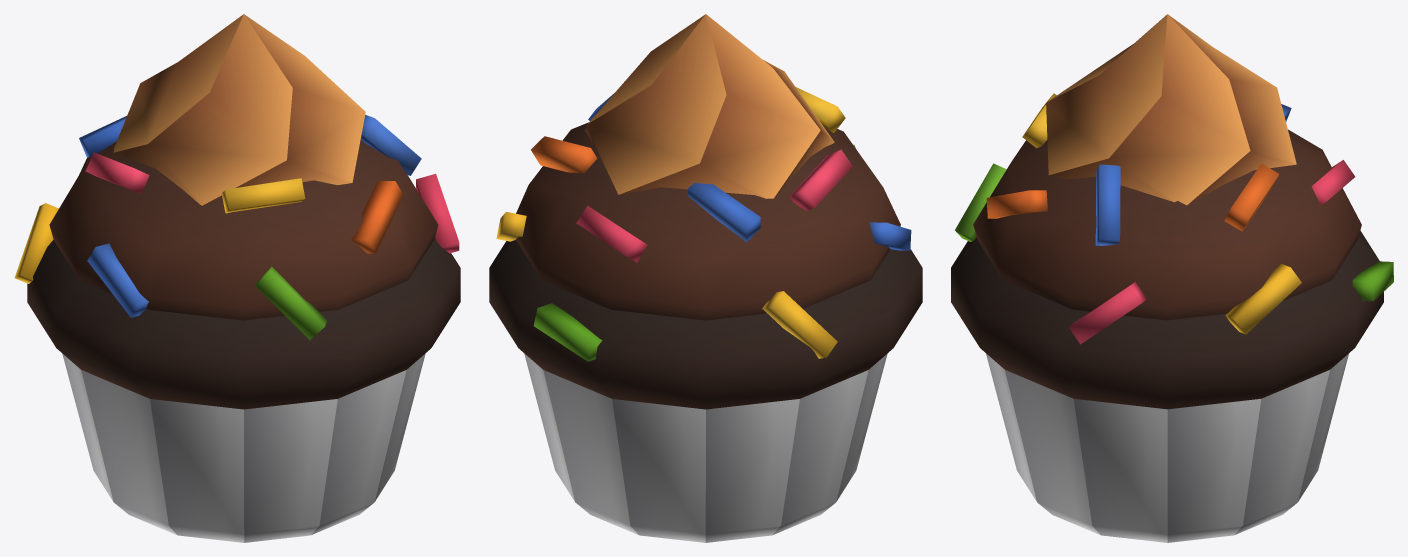
Rendered from m_Cupcake12.fbx.
3 views of the same model, side by side, from view 1: azimuth 30°, elevation 25°; view 2: azimuth 150°, elevation 25°; view 3: azimuth 270°, elevation 25° (orthographic).
Visible parts, largest first — view 1: m_Cupcake12; view 2: m_Cupcake12; view 3: m_Cupcake12.
Boxes of the visible parts, bbox=[...] form: m_Cupcake12: bbox=[14, 14, 460, 542]; m_Cupcake12: bbox=[489, 14, 922, 542]; m_Cupcake12: bbox=[951, 14, 1393, 542].
Bounding box in the file's own units: 11.39 × 13.71 × 11.65.
